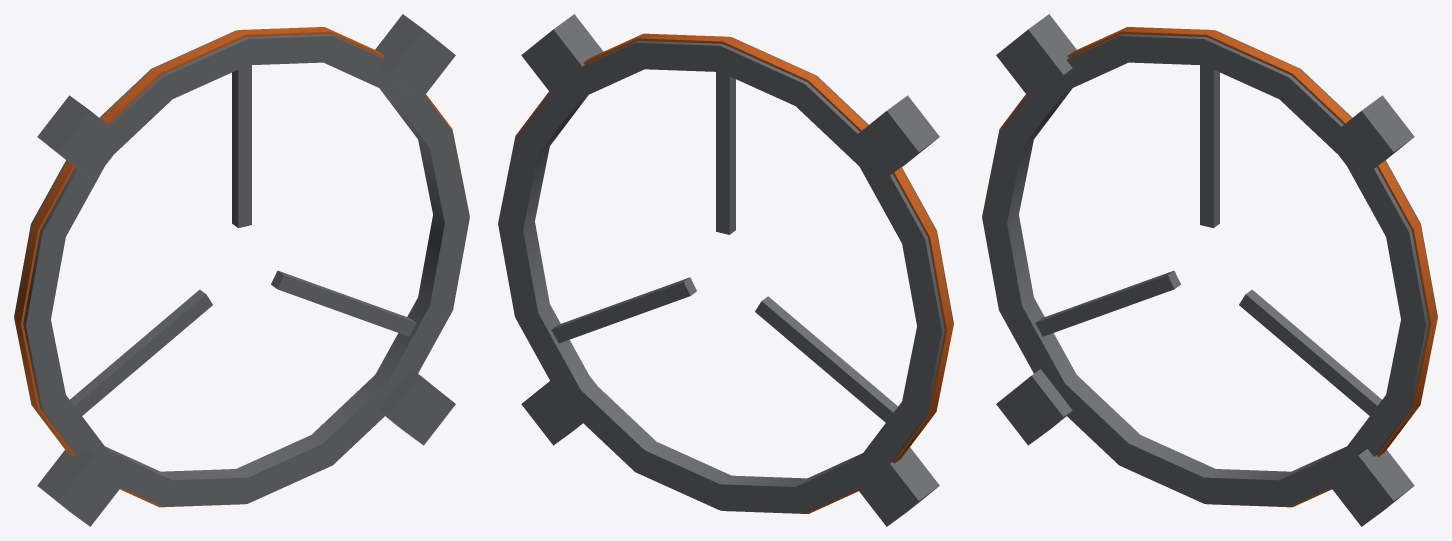
Rendered from u73l_flange.obj.
The picture shows the model from 3 angles, left to right: view 1: azimuth 30°, elevation 25°; view 2: azimuth 150°, elevation 25°; view 3: azimuth 330°, elevation 25°; orthographic projection.
Visible parts, largest first — view 1: u73l_flange; view 2: u73l_flange; view 3: u73l_flange.
Part boxes in pixels (x1,y1,x2,y2): u73l_flange: (14, 14, 469, 526); u73l_flange: (498, 14, 953, 526); u73l_flange: (982, 14, 1437, 526).
Size of the model in its own units: 3.94 by 3.94 by 0.32.
